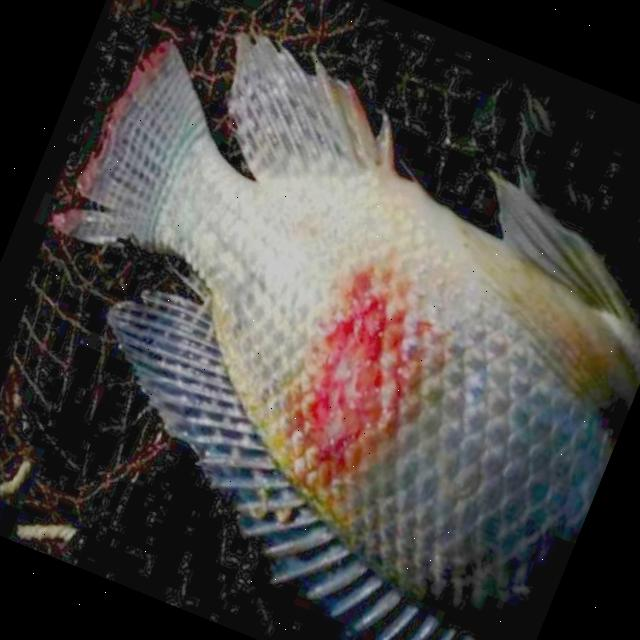Tilapia Lake Virus -TiLV-: (49, 33, 640, 640)
